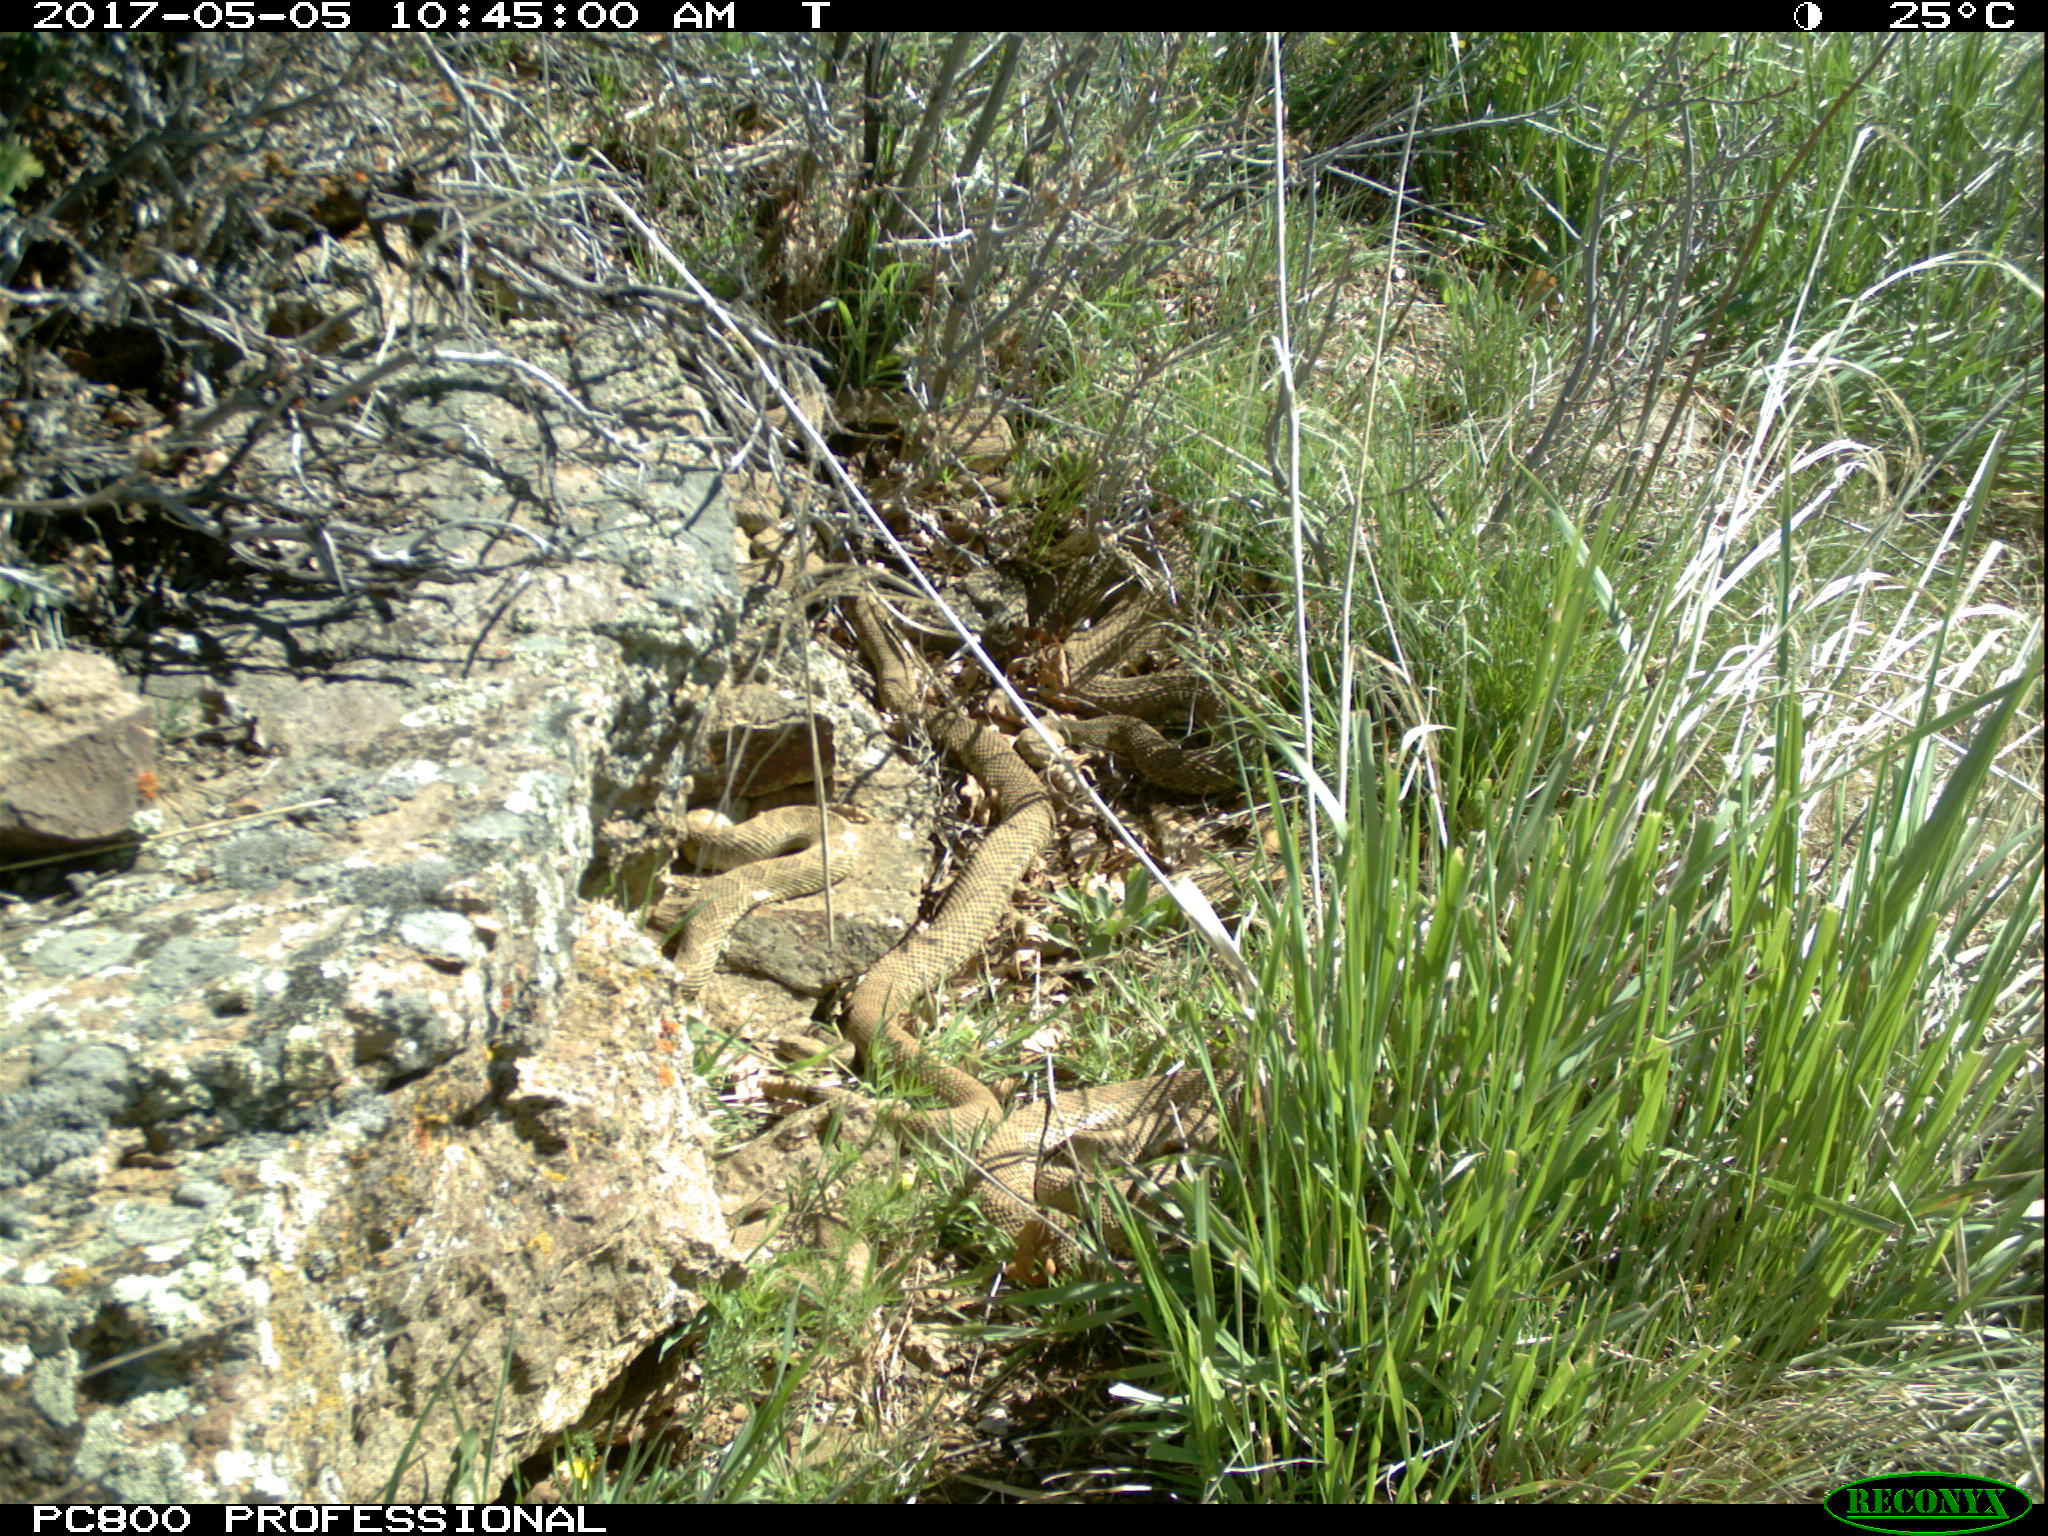snake: (840, 587, 1064, 1154), (980, 1066, 1259, 1276), (1055, 558, 1287, 803), (669, 799, 856, 992)
